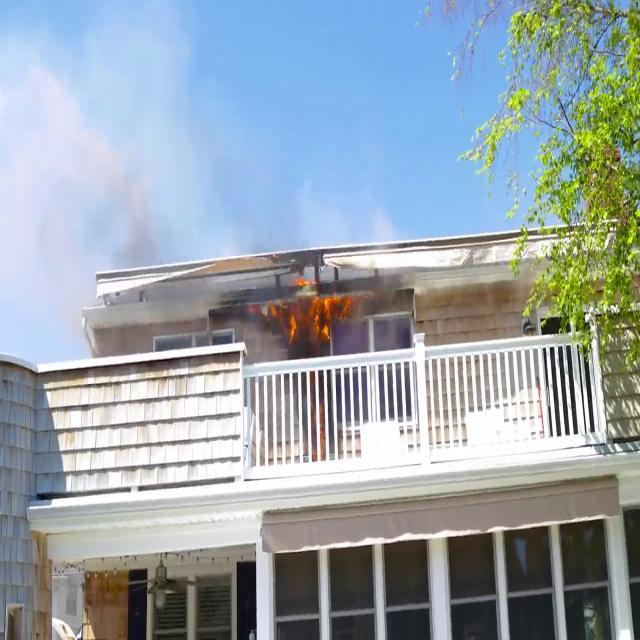Fire: (277, 262, 345, 364)
